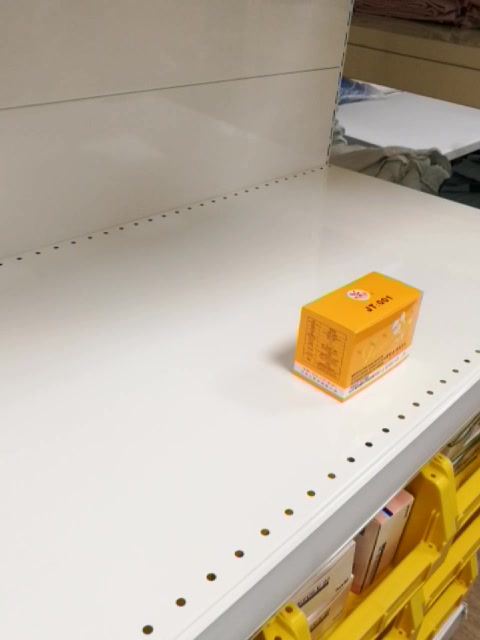jasminetea: (289, 269, 422, 401)
